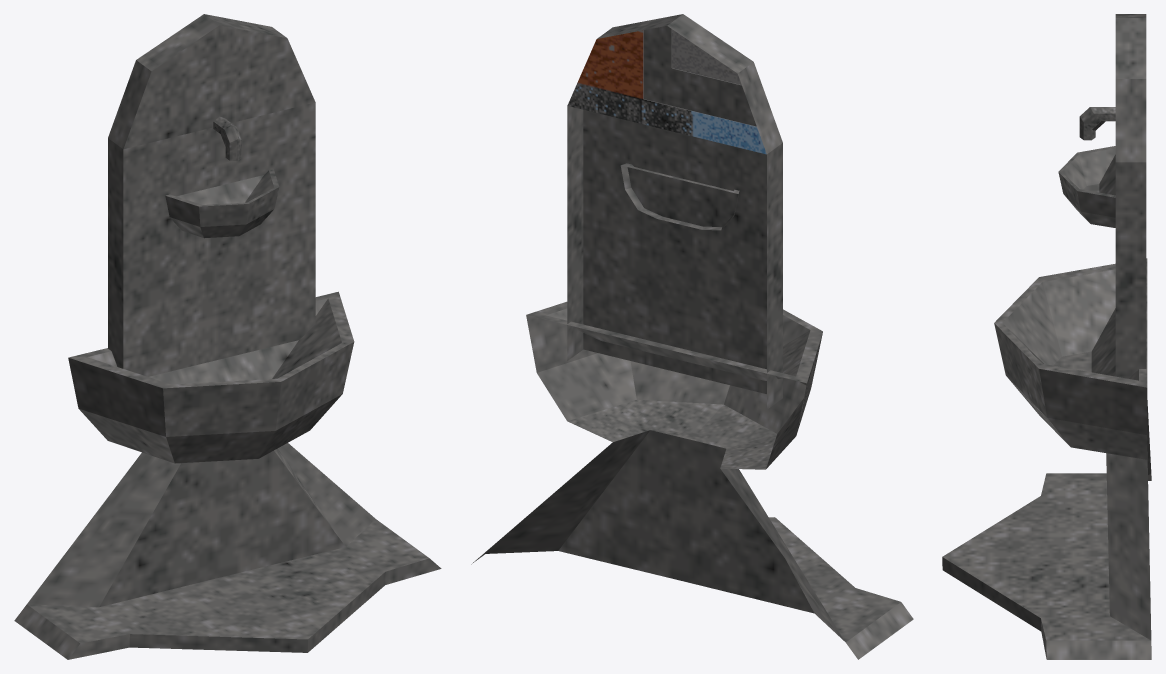
Rendered from SM_Dungeon_WaterFountain.fbx.
3 renders of one model, left to right at view 1: azimuth 30°, elevation 25°; view 2: azimuth 150°, elevation 25°; view 3: azimuth 270°, elevation 25°, orthographic. The views are drawn at different scales.
Visible parts, largest first — view 1: SM_Dungeon_WaterFountain; view 2: SM_Dungeon_WaterFountain; view 3: SM_Dungeon_WaterFountain.
Boxes of the visible parts, x1,y1,x2,y2 form: SM_Dungeon_WaterFountain: [14, 14, 441, 659]; SM_Dungeon_WaterFountain: [471, 14, 913, 659]; SM_Dungeon_WaterFountain: [942, 14, 1151, 659].
Bounding box in the file's own units: 93.97 × 135 × 46.48.
